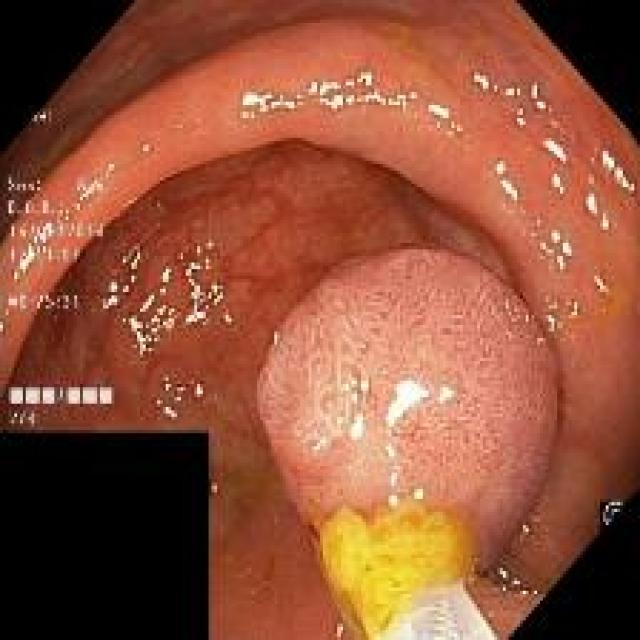Polyps: (258, 248, 559, 571)
